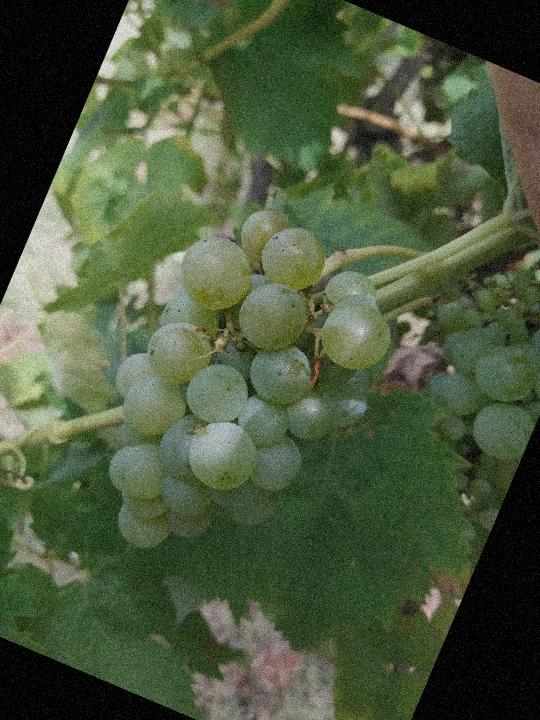grape: (52, 174, 428, 613)
